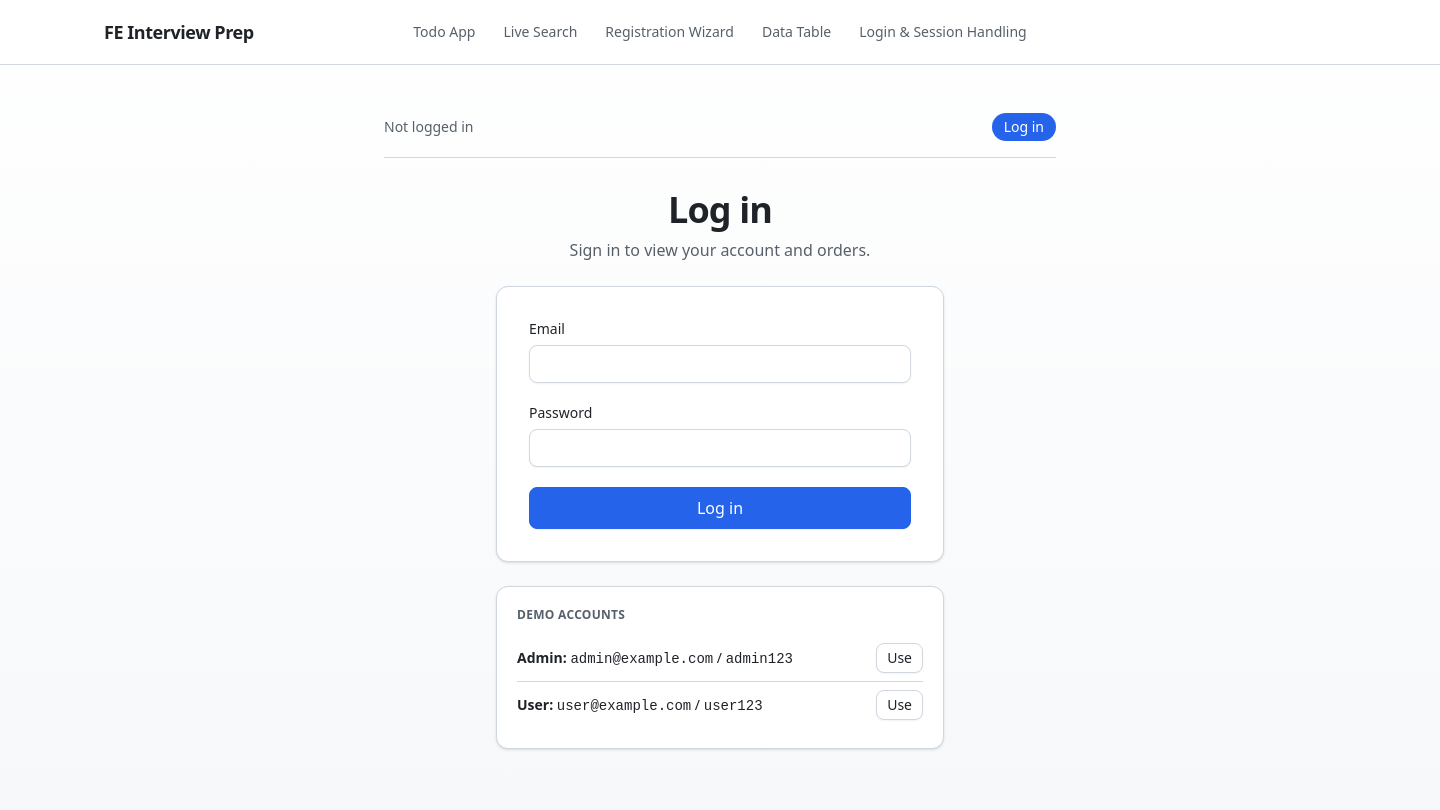
Test: login and session handling › shows an error for wrong credentials
This screenshot has width=1440, height=810.
Type "user@example.com" into the field labelled "Email". click: (720, 364)
box: 529,345 -> 911,383
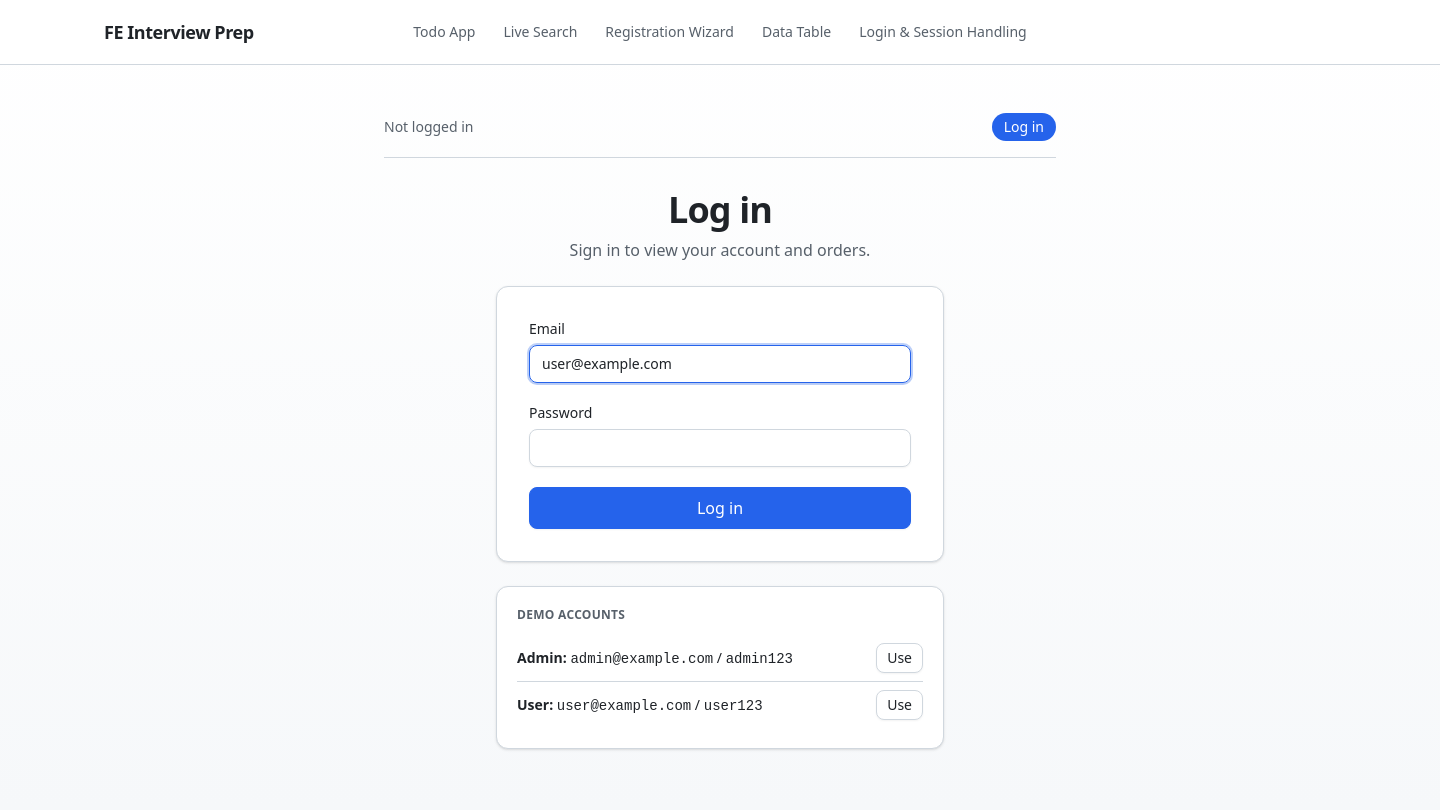
Type "wrong" into the password field labelled "Password". click: (720, 448)
box: 529,429 -> 911,467
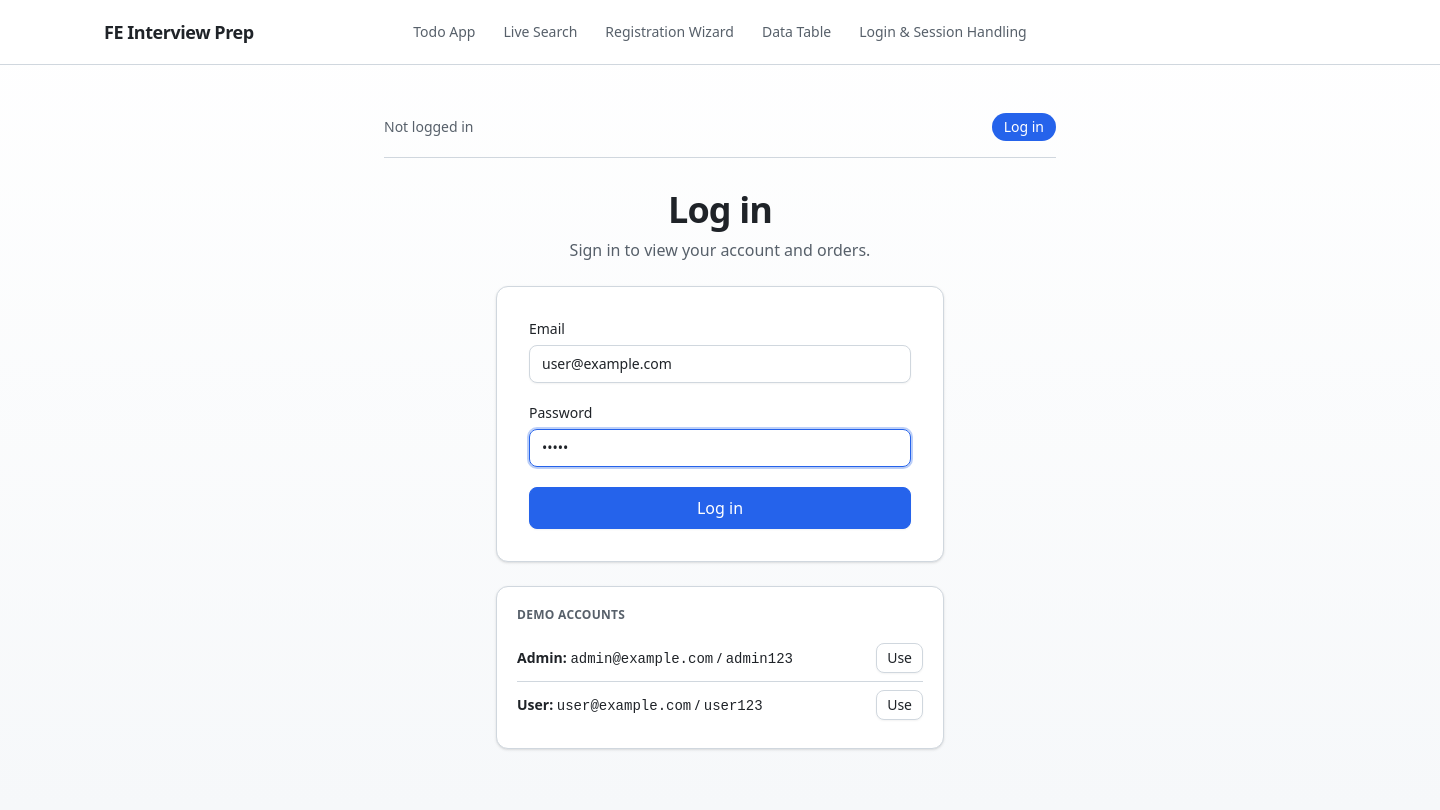
Click the button "Log in". click: (720, 508)
box: 529,487 -> 911,529
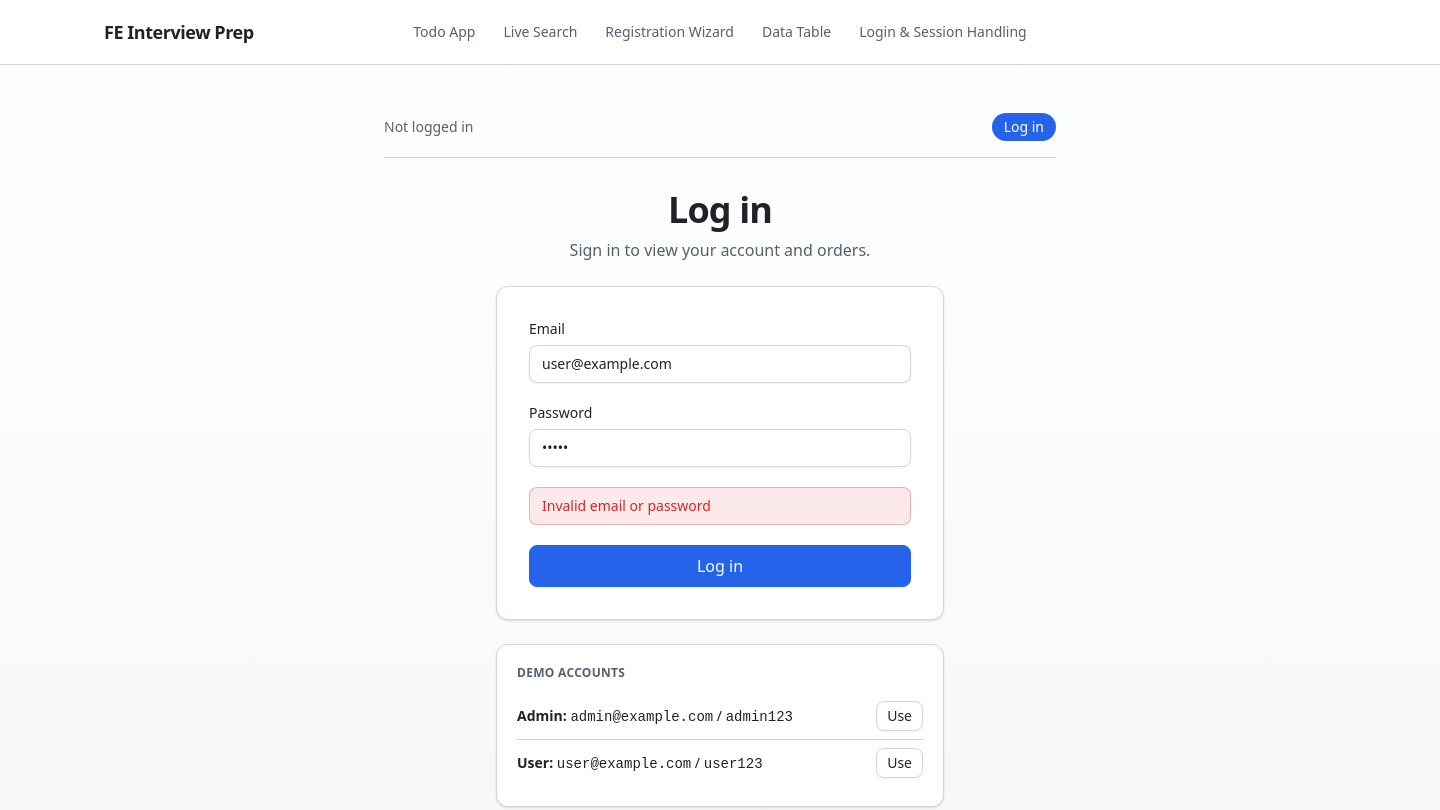
expect the message reads "Invalid email or password": met, box 542,496 -> 711,515
